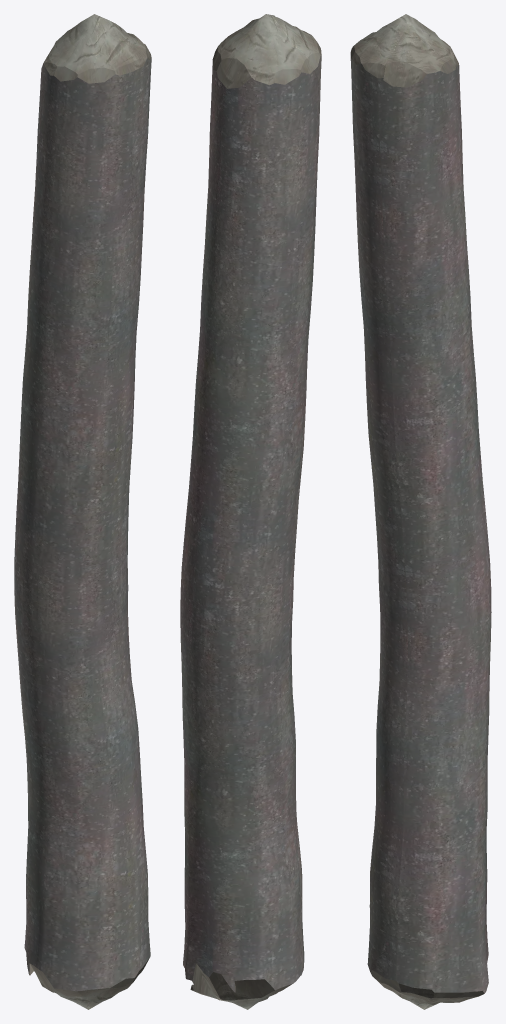
The picture shows the model from 3 angles, left to right: view 1: azimuth 90°, elevation 25°; view 2: azimuth 150°, elevation 25°; view 3: azimuth 330°, elevation 25°; orthographic projection.
Visible parts, largest first — view 1: SM_GF_Ash_Tree_01_half_bottom_LOD0; view 2: SM_GF_Ash_Tree_01_half_bottom_LOD0; view 3: SM_GF_Ash_Tree_01_half_bottom_LOD0.
Boxes of the visible parts, x1,y1,x2,y2 form: SM_GF_Ash_Tree_01_half_bottom_LOD0: (14,14,151,1009); SM_GF_Ash_Tree_01_half_bottom_LOD0: (180,14,321,1009); SM_GF_Ash_Tree_01_half_bottom_LOD0: (350,14,491,1009).
Size of the model in its own units: 0.6039 by 4.65 by 0.5767.
Materials: 1 (1 with a texture image).
